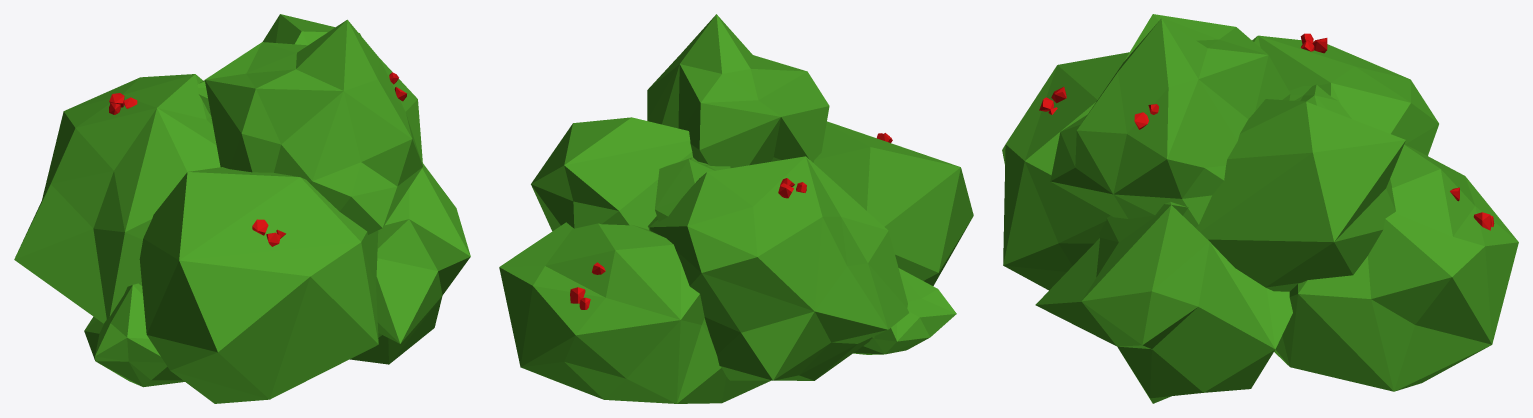
File: BushSmallWithBerries_001.FBX
3 views of the same model, side by side, from view 1: azimuth 30°, elevation 25°; view 2: azimuth 150°, elevation 25°; view 3: azimuth 270°, elevation 25° (orthographic). The views are drawn at different scales.
Visible parts, largest first — view 1: Leaf032, Leaf031, Leaf037, Leaf034, Leaf038, Leaf039; view 2: Leaf037, Leaf035, Leaf031, Leaf032, Leaf039, Leaf038, Leaf040; view 3: Leaf035, Leaf031, Leaf034, Leaf039, Leaf032, Leaf037, Leaf040.
Boxes of the visible parts, left/top/right/bottom form: Leaf032: left=139, top=167, right=378, bottom=403; Leaf031: left=205, top=19, right=422, bottom=234; Leaf037: left=14, top=74, right=220, bottom=323; Leaf034: left=350, top=163, right=470, bottom=364; Leaf038: left=84, top=283, right=184, bottom=387; Leaf039: left=262, top=14, right=360, bottom=45; Leaf037: left=648, top=156, right=908, bottom=380; Leaf035: left=499, top=222, right=770, bottom=403; Leaf031: left=647, top=14, right=829, bottom=167; Leaf032: left=813, top=121, right=973, bottom=285; Leaf039: left=531, top=117, right=692, bottom=231; Leaf038: left=853, top=268, right=956, bottom=354; Leaf040: left=655, top=157, right=730, bottom=221; Leaf035: left=1274, top=144, right=1518, bottom=391; Leaf031: left=1050, top=14, right=1290, bottom=227; Leaf034: left=1035, top=202, right=1292, bottom=403; Leaf039: left=1196, top=99, right=1405, bottom=291; Leaf032: left=1002, top=52, right=1129, bottom=290; Leaf037: left=1252, top=35, right=1438, bottom=155; Leaf040: left=1289, top=84, right=1351, bottom=118.
Size of the model in its own units: 8.51 by 7.45 by 9.52.
